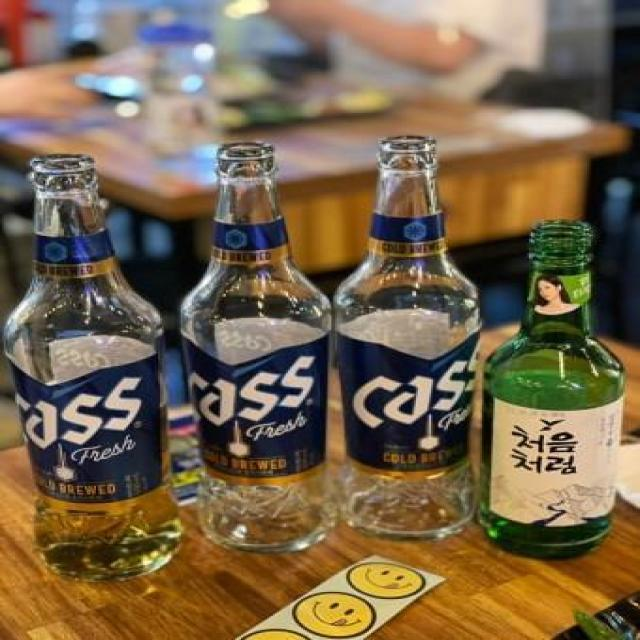beer-bottle: (1, 162, 197, 580), (174, 132, 344, 566), (336, 128, 486, 537)
soju-bottle: (477, 215, 632, 559)
